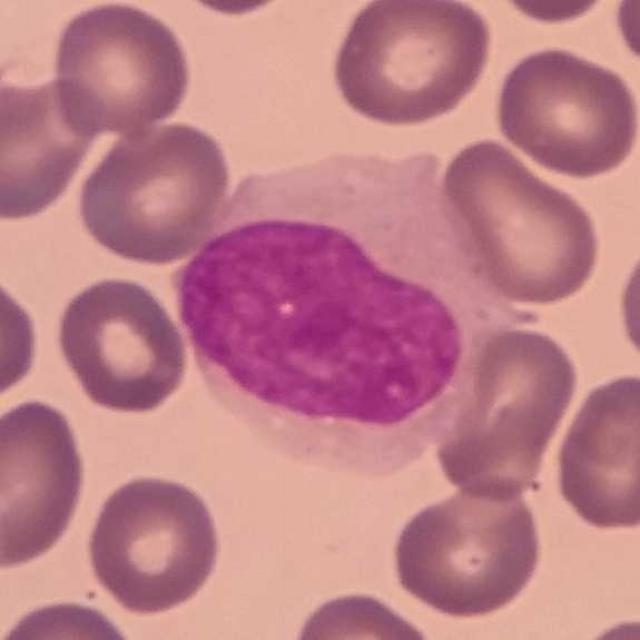Monocyte: (170, 154, 528, 485)
RBC: (433, 134, 604, 310), (429, 320, 581, 504), (72, 117, 236, 267), (388, 476, 546, 621), (328, 0, 497, 129), (82, 468, 226, 616), (51, 272, 193, 418), (491, 42, 640, 180), (46, 0, 196, 137), (0, 69, 105, 225), (0, 394, 91, 573), (550, 368, 640, 536), (287, 585, 440, 640), (0, 594, 142, 639), (0, 266, 43, 413), (612, 226, 640, 377), (484, 0, 622, 27), (161, 0, 306, 19), (564, 611, 640, 640), (610, 1, 640, 72)
